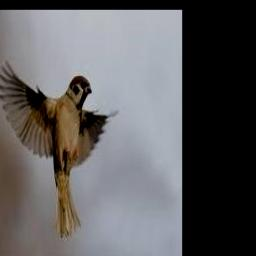Sparrow: (0, 59, 119, 238)
